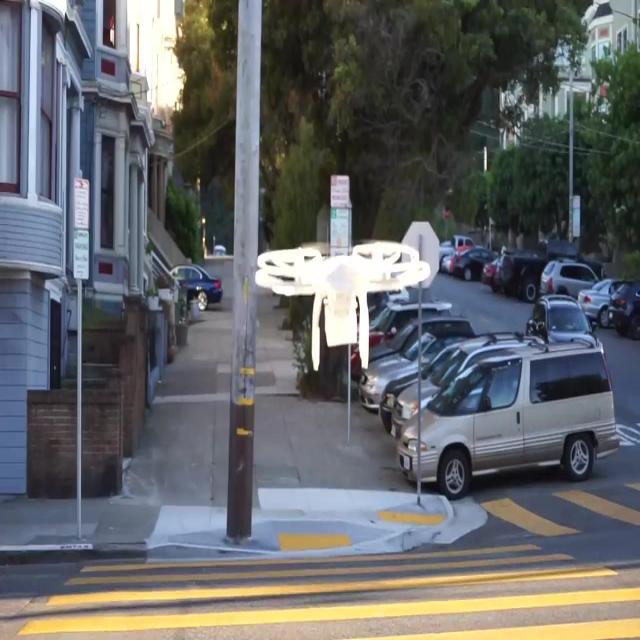drone: (254, 239, 430, 370)
